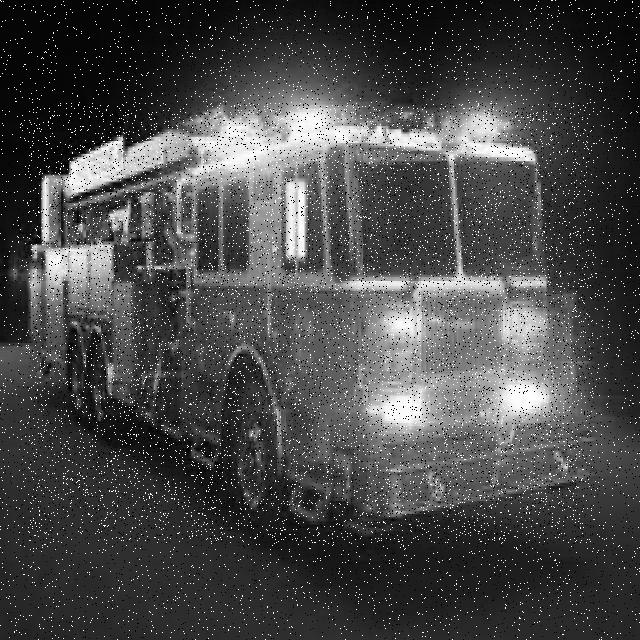Fire Truck: (28, 103, 594, 543)
